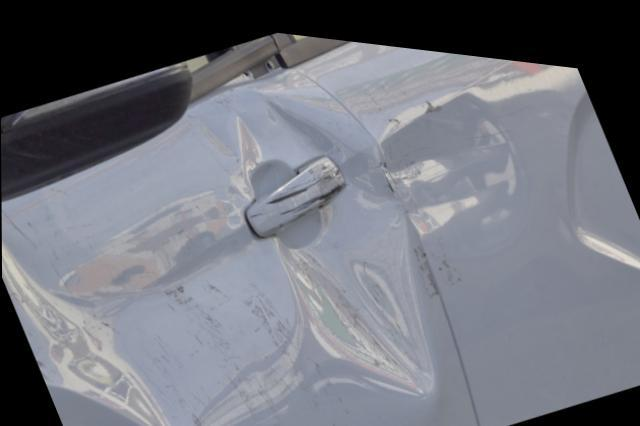dent: (1, 103, 296, 426), (263, 94, 435, 383), (378, 81, 525, 248)
